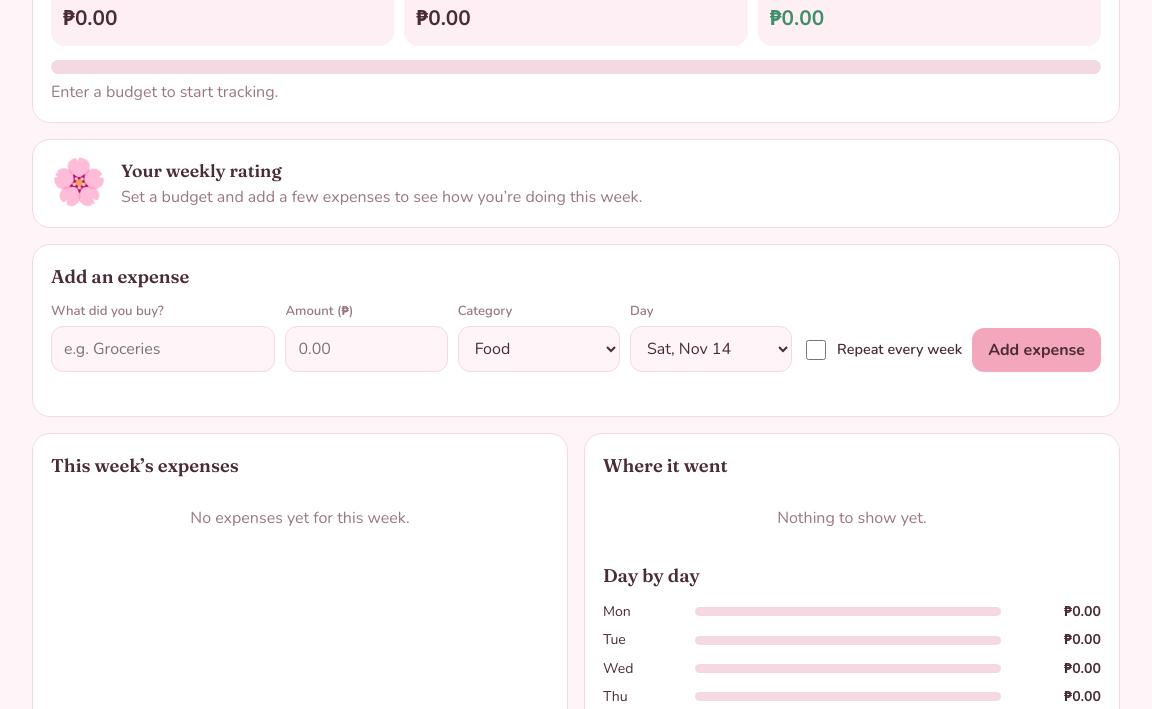
Test: App › shows a message instead of silently ignoring a bad expense
The image size is (1152, 709).
(page scrolled)
Click the button "Add expense" at (1037, 350), box [972,328,1101,372]
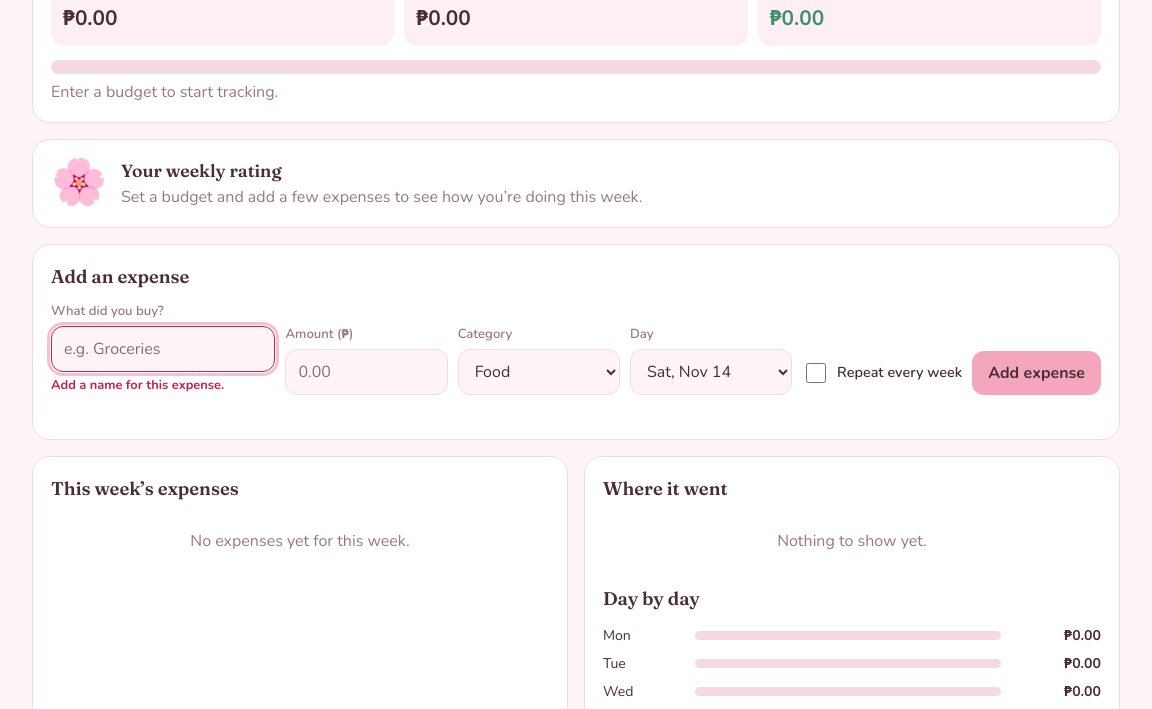
Expected: the text "Add a name for this expense." is shown, [51,376,224,394]
